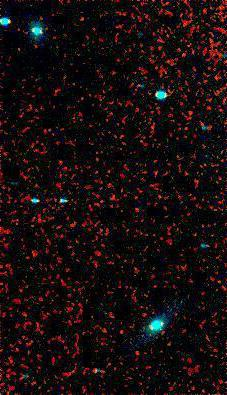star: (123, 196, 153, 226)
